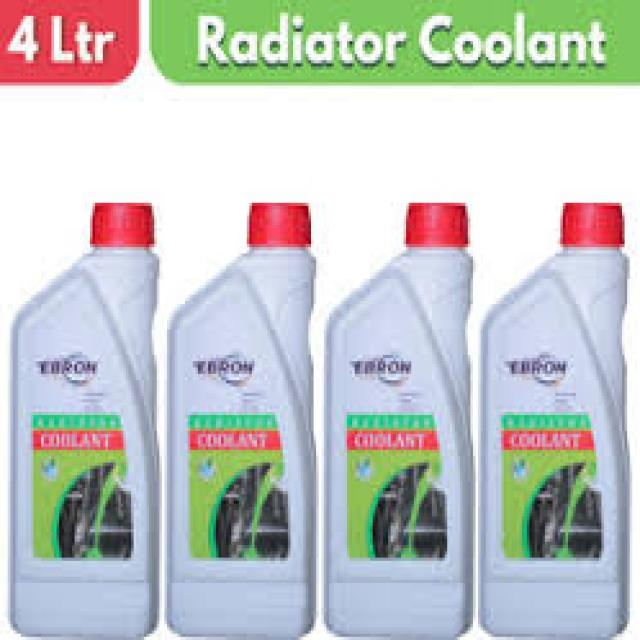coolant: (476, 193, 638, 640), (3, 193, 162, 637), (319, 196, 478, 640), (165, 196, 318, 638)
